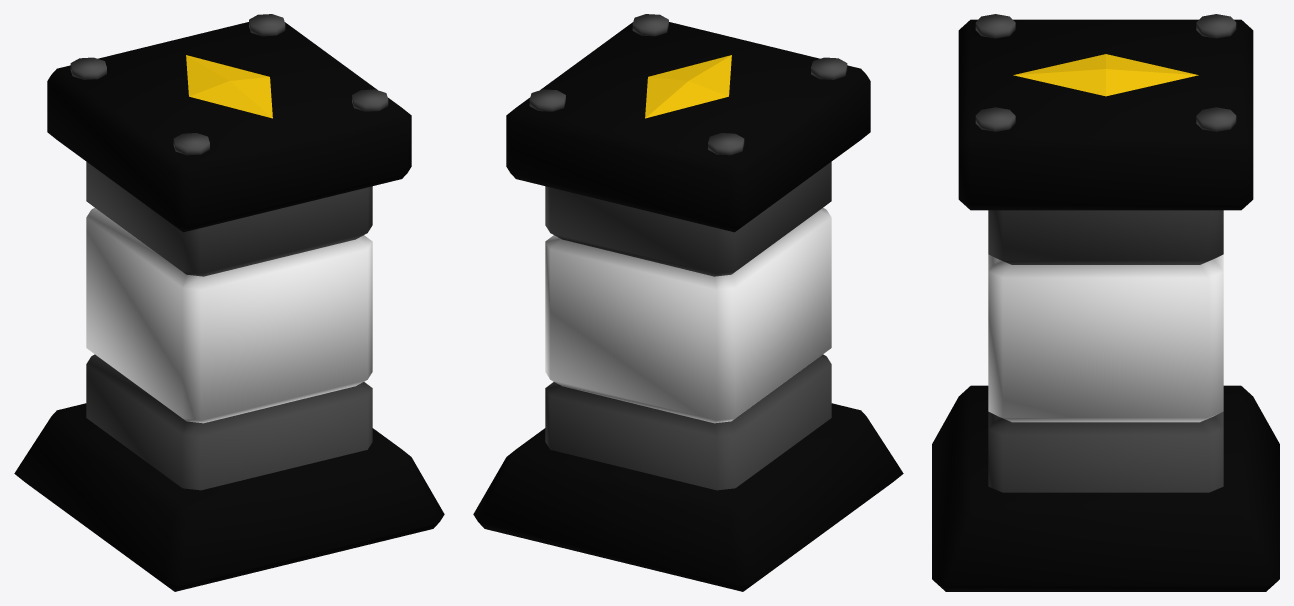
Rendered from Interactor_Itembox_EXP.fbx.
The picture shows the model from 3 angles, left to right: view 1: azimuth 30°, elevation 25°; view 2: azimuth 150°, elevation 25°; view 3: azimuth 270°, elevation 25°; orthographic projection. The views are drawn at different scales.
Visible parts, largest first — view 1: ItemBox; view 2: ItemBox; view 3: ItemBox.
Part boxes in pixels (x1,y1,x2,y2): ItemBox: [14, 14, 444, 591]; ItemBox: [473, 14, 903, 591]; ItemBox: [932, 14, 1279, 591].
Bounding box in the file's own units: 104 × 150 × 104.
